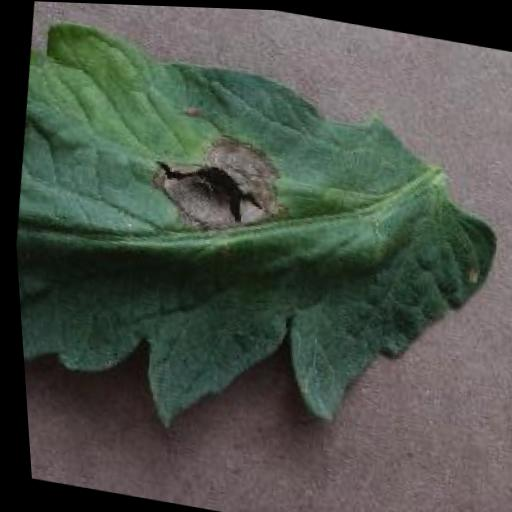Early Blight: (0, 4, 512, 485)
